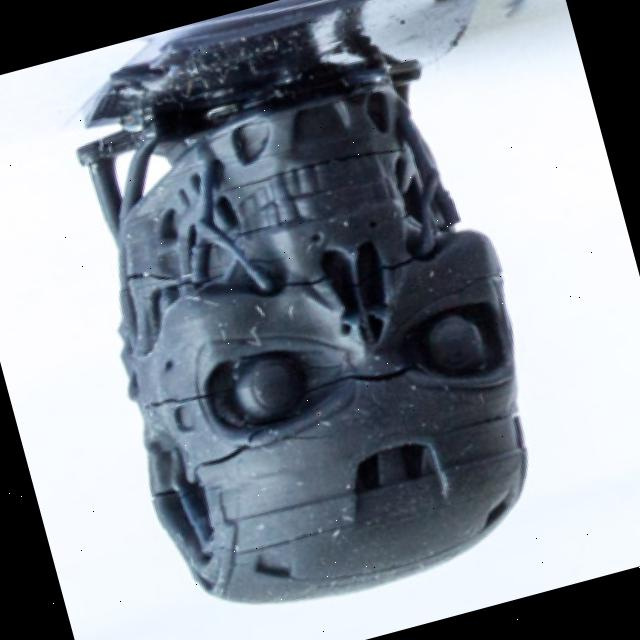cracks: (106, 198, 466, 356), (154, 370, 392, 524)
